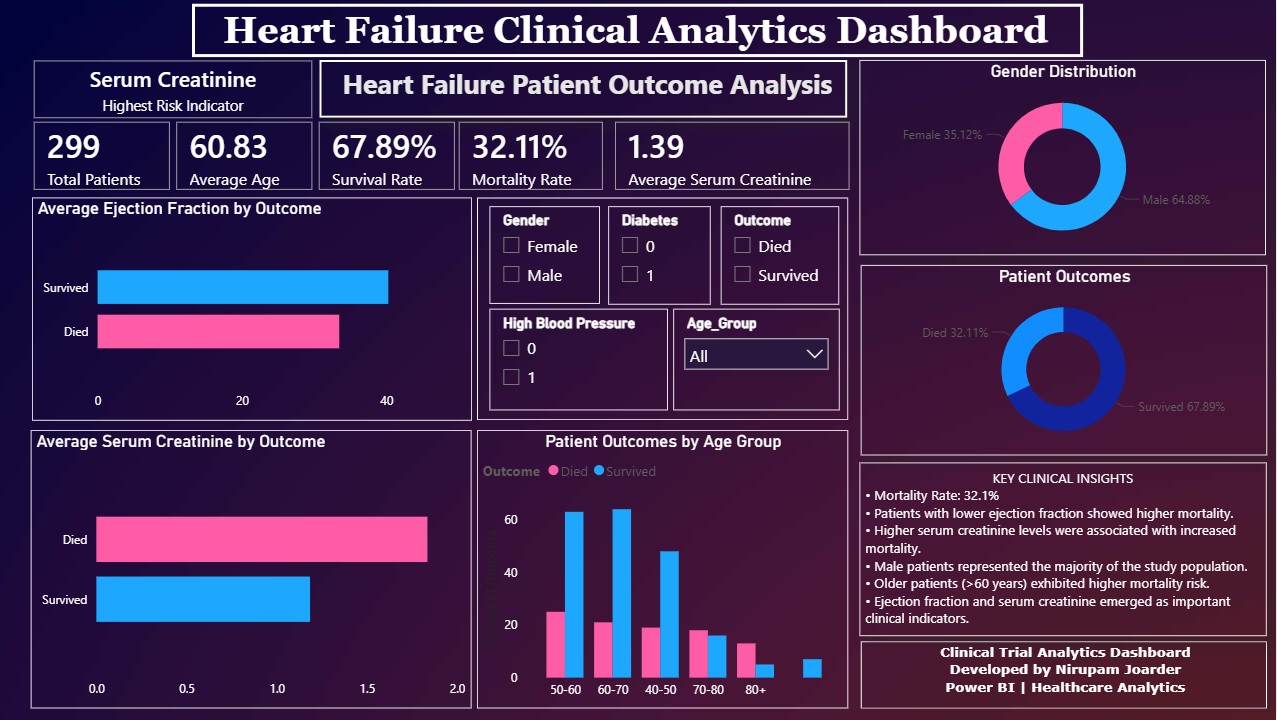

This screenshot's page, from the dashboard's own definition file:
{"tool":"powerbi","page":{"name":"Page 1","canvas":[1280,720],"ordinal":0},"visuals":[{"type":"shape","box":[863.8,641.2,406.2,67.5],"z":0},{"type":"shape","box":[194.4,3.3,891.1,53.3],"z":1000},{"type":"shape","box":[480,198,371.3,222.7],"z":2000},{"type":"shape","box":[323.1,60,527.7,57.7],"z":2500},{"type":"textbox","box":[221.1,3.3,1007.8,60],"z":3000},{"type":"textbox","box":[323.1,60,528.5,57.7],"z":4000},{"type":"cardVisual","fields":{"Data":["clinical_trial_processed.Total Patients"]},"box":[20,105.4,170,102.3],"z":5000},{"type":"cardVisual","fields":{"Data":["Avg(clinical_trial_processed.age)"]},"box":[162.4,105.2,170,102.4],"z":6000},{"type":"cardVisual","fields":{"Data":["clinical_trial_processed.Survival Rate"]},"box":[305.4,105.4,170,102.3],"z":7000},{"type":"cardVisual","fields":{"Data":["clinical_trial_processed.Mortality Rate"]},"box":[445.4,105.4,178.5,102.3],"z":8000},{"type":"donutChart","title":"Gender Distribution","fields":{"Category":["clinical_trial_processed.Gender"],"Y":["CountNonNull(clinical_trial_processed.Gender)"]},"box":[862.5,60,406.2,195],"z":9000},{"type":"donutChart","title":"Patient Outcomes","fields":{"Category":["clinical_trial_processed.Outcome"],"Y":["CountNonNull(clinical_trial_processed.Outcome)"]},"box":[863.8,265,406.2,190],"z":10000},{"type":"clusteredColumnChart","title":"Patient Outcomes by Age Group","fields":{"Category":["clinical_trial_processed.Age_Group"],"Series":["clinical_trial_processed.Outcome"],"Y":["CountNonNull(clinical_trial_processed.Outcome)"]},"box":[480,430,371.2,278.8],"z":11000},{"type":"clusteredBarChart","title":"Average Serum Creatinine by Outcome","fields":{"Category":["clinical_trial_processed.Outcome"],"Y":["Avg(clinical_trial_processed.serum_creatinine)"]},"box":[34,430,440.7,278.7],"z":12000},{"type":"clusteredBarChart","title":"Average Ejection Fraction by Outcome","fields":{"Category":["clinical_trial_processed.Outcome"],"Y":["Avg(clinical_trial_processed.ejection_fraction)"]},"box":[34.6,197.7,440,223.1],"z":13000},{"type":"slicer","fields":{"Values":["clinical_trial_processed.Gender"]},"box":[492,206,110,97.3],"z":14000},{"type":"slicer","fields":{"Values":["clinical_trial_processed.Age_Group"]},"box":[676.7,309.3,166,101.3],"z":15000},{"type":"slicer","fields":{"Values":["clinical_trial_processed.diabetes"]},"box":[611.3,206,102.7,98.7],"z":16000},{"type":"slicer","fields":{"Values":["clinical_trial_processed.high_blood_pressure"]},"box":[492,309.3,178,101.3],"z":17000},{"type":"slicer","fields":{"Values":["clinical_trial_processed.Outcome"]},"box":[724,206,118.7,98.7],"z":18000},{"type":"textbox","box":[862.5,462.5,407.5,173.8],"z":19000},{"type":"cardVisual","fields":{"Data":["clinical_trial_processed.Highest Risk Indicator"]},"box":[20,43.3,312.4,91.4],"z":20000},{"type":"cardVisual","fields":{"Data":["clinical_trial_processed.Average Serum Creatinine"]},"box":[600.8,105.4,268.5,102.3],"z":21000},{"type":"textbox","box":[864,638,405,71],"z":22000}]}

Visuals, with their boxes in screenshot pixels (x1, y1, x2, y2), scaled from the page's 1280x720 canvas onto the 1277x720 screenshot:
shape: (862, 641, 1267, 709)
shape: (194, 3, 1083, 57)
shape: (479, 198, 849, 421)
shape: (322, 60, 849, 118)
textbox: (221, 3, 1226, 63)
textbox: (322, 60, 850, 118)
cardVisual - clinical_trial_processed.Total Patients: (20, 105, 190, 208)
cardVisual - Avg(clinical_trial_processed.age): (162, 105, 332, 208)
cardVisual - clinical_trial_processed.Survival Rate: (305, 105, 474, 208)
cardVisual - clinical_trial_processed.Mortality Rate: (444, 105, 622, 208)
"Gender Distribution" donutChart: (860, 60, 1266, 255)
"Patient Outcomes" donutChart: (862, 265, 1267, 455)
"Patient Outcomes by Age Group" clusteredColumnChart: (479, 430, 849, 709)
"Average Serum Creatinine by Outcome" clusteredBarChart: (34, 430, 474, 709)
"Average Ejection Fraction by Outcome" clusteredBarChart: (35, 198, 473, 421)
slicer - clinical_trial_processed.Gender: (491, 206, 601, 303)
slicer - clinical_trial_processed.Age_Group: (675, 309, 841, 411)
slicer - clinical_trial_processed.diabetes: (610, 206, 712, 305)
slicer - clinical_trial_processed.high_blood_pressure: (491, 309, 668, 411)
slicer - clinical_trial_processed.Outcome: (722, 206, 841, 305)
textbox: (860, 462, 1267, 636)
cardVisual - clinical_trial_processed.Highest Risk Indicator: (20, 43, 332, 135)
cardVisual - clinical_trial_processed.Average Serum Creatinine: (599, 105, 867, 208)
textbox: (862, 638, 1266, 709)
